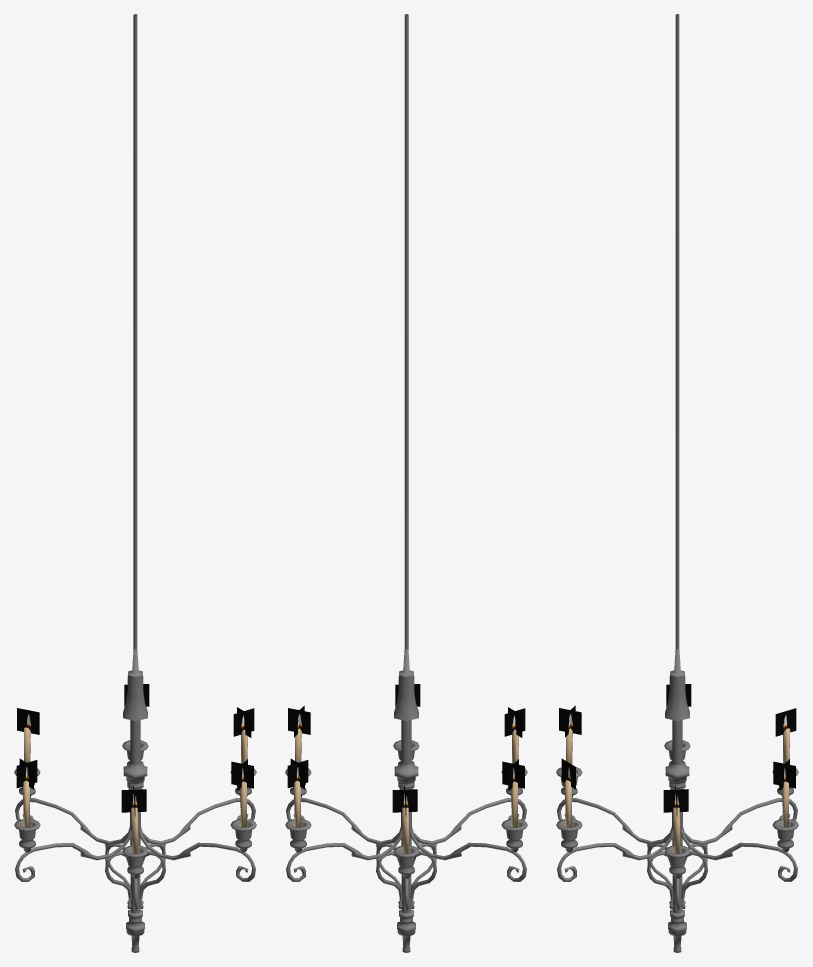
The model's file is SM_chandelier_01.fbx.
3 views of the same model, side by side, from view 1: azimuth 30°, elevation 25°; view 2: azimuth 150°, elevation 25°; view 3: azimuth 270°, elevation 25° (orthographic).
Parts seen in each view (by area): view 1: chandelier; view 2: chandelier; view 3: chandelier.
Part boxes in pixels (bbox=[...]): chandelier: bbox=[14, 14, 256, 952]; chandelier: bbox=[285, 14, 527, 952]; chandelier: bbox=[556, 14, 798, 952].
Size of the model in its own units: 68.84 by 256 by 59.93.
